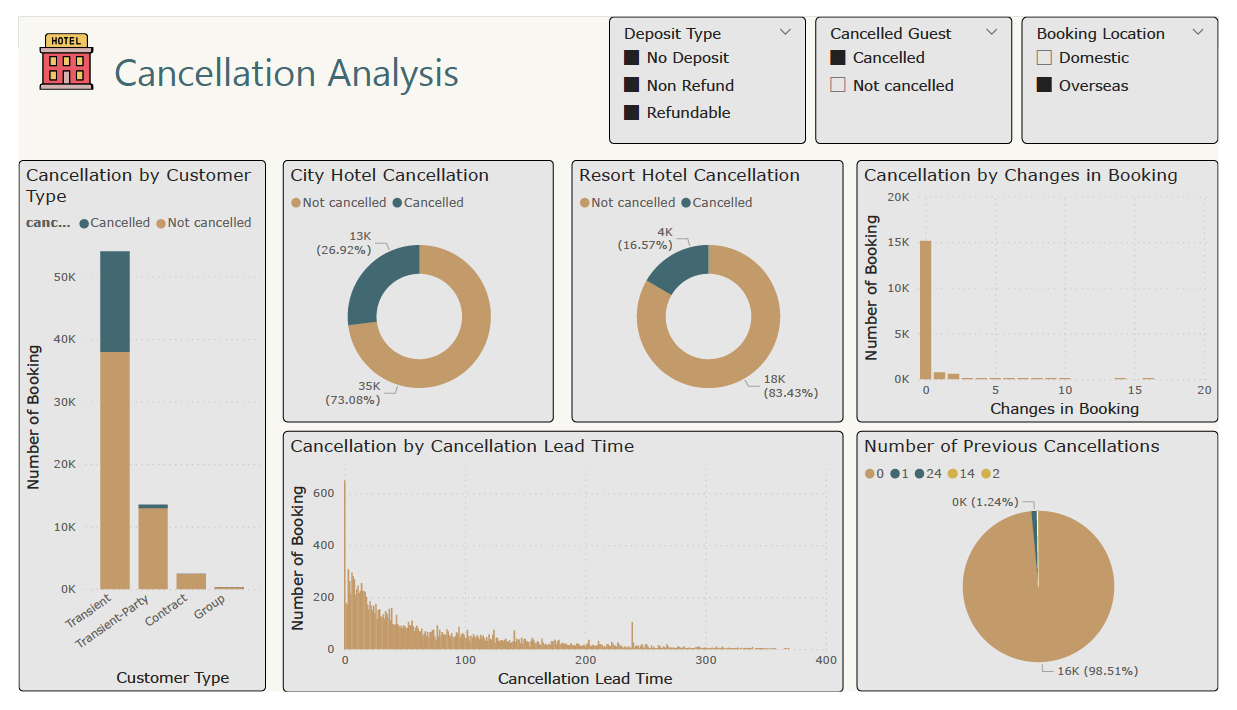

The dashboard page shown, as its layout file describes it:
{"tool":"powerbi","page":{"name":"Cancellation Analysis","canvas":[1280,720],"ordinal":3},"visuals":[{"type":"clusteredColumnChart","title":"Cancellation by Changes in Booking","fields":{"Category":["hotel_booking_cleaned.booking_changes"],"Y":["measure_groups.booking_count"]},"box":[894.5,153.3,385.8,279.5],"z":0},{"type":"donutChart","title":"City Hotel Cancellation","fields":{"Y":["hotel_booking_cleaned.booking_count"],"Category":["hotel_booking_cleaned.cancelled_guest"]},"box":[281.6,153.3,289.7,279.5],"z":1000},{"type":"slicer","fields":{"Values":["hotel_booking_cleaned.deposit_type"]},"box":[630.5,0,209.7,135.6],"z":2000},{"type":"donutChart","title":"Resort Hotel Cancellation","fields":{"Y":["hotel_booking_cleaned.booking_count"],"Category":["hotel_booking_cleaned.cancelled_guest"]},"box":[590.2,153.3,289.7,279.5],"z":3000},{"type":"columnChart","title":"Cancellation by Customer Type","fields":{"Category":["hotel_booking_cleaned.customer_type"],"Y":["hotel_booking_cleaned.booking_count"],"Series":["hotel_booking_cleaned.cancelled_guest"]},"box":[0,153.2,263.7,566.4],"z":4000},{"type":"clusteredColumnChart","title":"Cancellation by Cancellation Lead Time","fields":{"Category":["hotel_booking_cleaned.canceled_days_before"],"Y":["measure_groups.booking_count"]},"box":[281.6,441.6,598.4,279.5],"z":5000},{"type":"shape","box":[10,10,467.2,95.4],"z":6000},{"type":"image","box":[16,12.3,70.2,70.2],"z":7000},{"type":"slicer","fields":{"Values":["hotel_booking_cleaned.cancelled_guest"]},"box":[850.2,0,209.7,135.6],"z":8000},{"type":"slicer","fields":{"Values":["hotel_booking_cleaned.booking_location"]},"box":[1070,0,209.7,135.6],"z":9000},{"type":"pieChart","title":"Number of Previous Cancellations","fields":{"Category":["information.previous_cancellations"],"Y":["measure_groups.booking_count"]},"box":[894.2,442.1,385.6,277.6],"z":10000}]}

Visuals, with their boxes in screenshot pixels (x1, y1, x2, y2), scaled from the page's 1280x720 canvas onto the 1237x710 screenshot:
"Cancellation by Changes in Booking" clusteredColumnChart: (864,151,1236,427)
"City Hotel Cancellation" donutChart: (272,151,552,427)
slicer - hotel_booking_cleaned.deposit_type: (609,0,812,134)
"Resort Hotel Cancellation" donutChart: (570,151,850,427)
"Cancellation by Customer Type" columnChart: (0,151,255,709)
"Cancellation by Cancellation Lead Time" clusteredColumnChart: (272,435,850,709)
shape: (10,10,461,104)
image: (15,12,83,81)
slicer - hotel_booking_cleaned.cancelled_guest: (822,0,1024,134)
slicer - hotel_booking_cleaned.booking_location: (1034,0,1236,134)
"Number of Previous Cancellations" pieChart: (864,436,1236,709)
